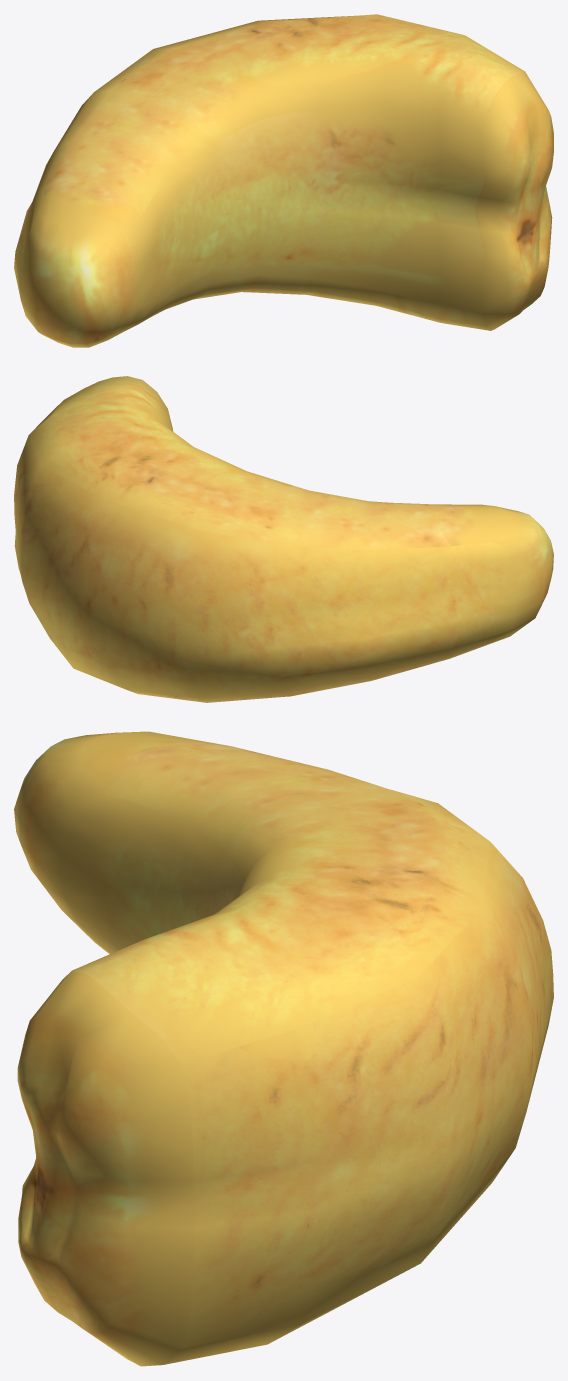
File: gajus.fbx
The picture shows the model from 3 angles, top to bottom: view 1: azimuth 30°, elevation 25°; view 2: azimuth 150°, elevation 25°; view 3: azimuth 270°, elevation 25°; orthographic projection. The views are drawn at different scales.
Visible parts, largest first — view 1: Box001_default_mso_0; view 2: Box001_default_mso_0; view 3: Box001_default_mso_0.
Boxes of the visible parts, x1,y1,x2,y2 form: Box001_default_mso_0: (14,14,553,347); Box001_default_mso_0: (14,376,553,702); Box001_default_mso_0: (14,731,553,1366).
Size of the model in its own units: 17580 by 8558 by 10526.
Materials: 1 (1 with a texture image).
